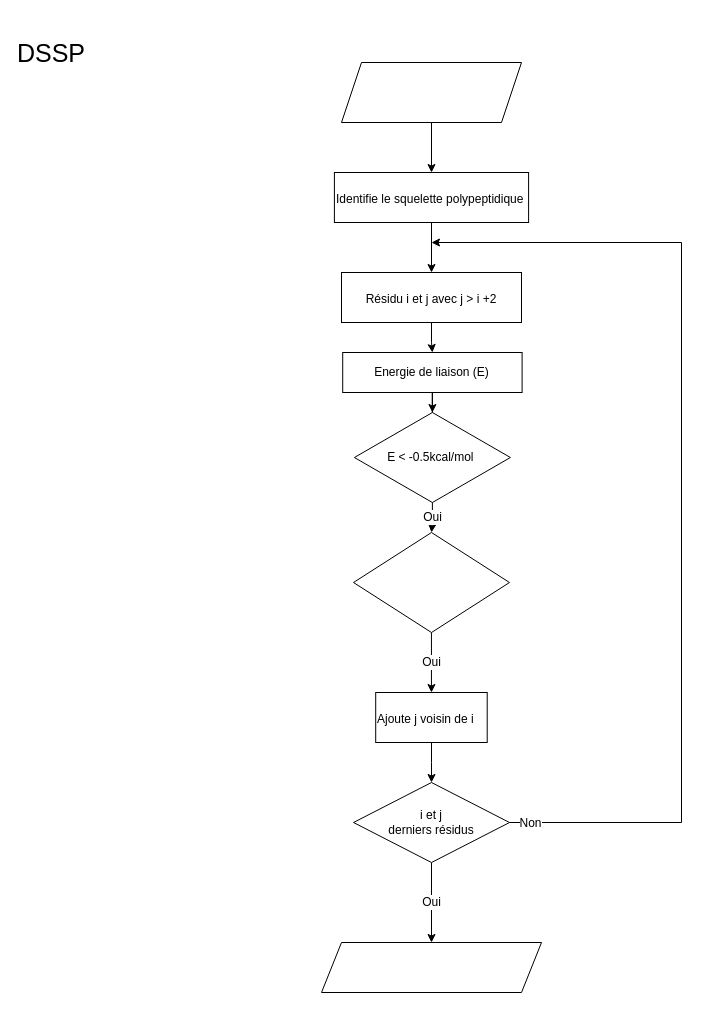
Some shapes in this 707 by 1010 pixel diagram are drawn without their labels. Each missing label, with the centre of its shape:
Coordonnées de la molécule: point (431, 92)
E min sur E(i, j) j voisin de i i fixé: point (431, 582)
Liste des résidus (i, j) engagés dans les liaisons hydrogène: point (431, 967)
